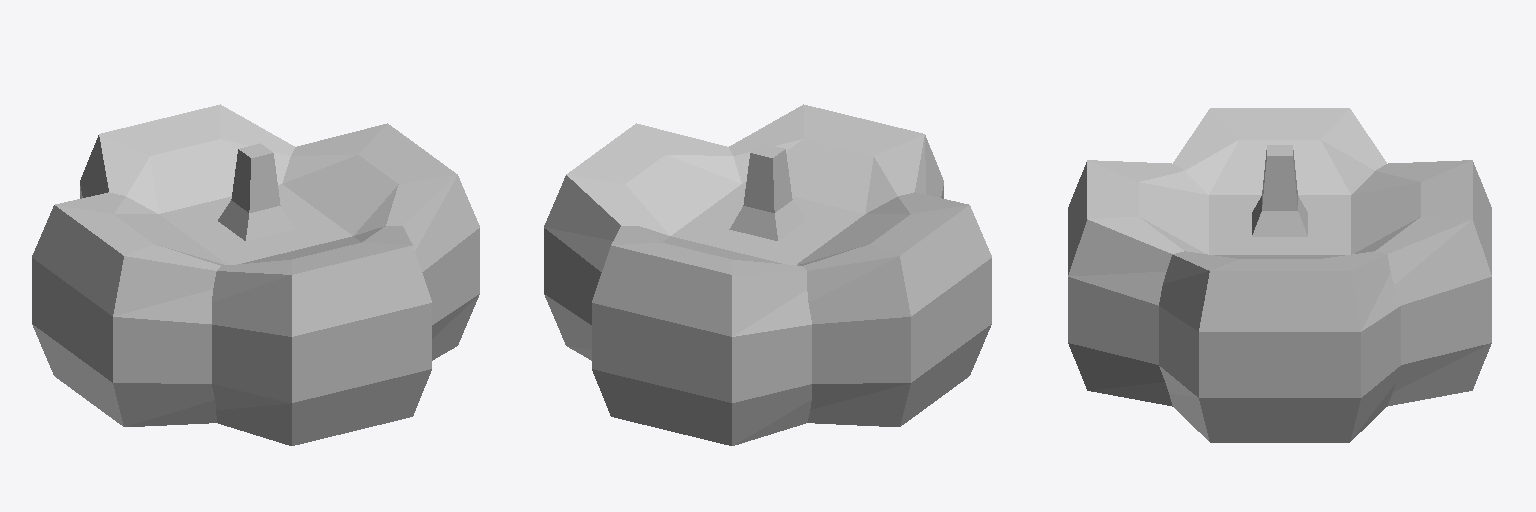
File: pumpkin.obj
3 views of the same model, side by side, from view 1: azimuth 30°, elevation 25°; view 2: azimuth 150°, elevation 25°; view 3: azimuth 270°, elevation 25° (orthographic).
Parts seen in each view (by area): view 1: pumpkin; view 2: pumpkin; view 3: pumpkin.
Part boxes in pixels (bbox=[...]): pumpkin: bbox=[32, 104, 479, 445]; pumpkin: bbox=[544, 104, 991, 445]; pumpkin: bbox=[1068, 108, 1491, 442].
Size of the model in its own units: 0.4189 by 0.2291 by 0.4189.